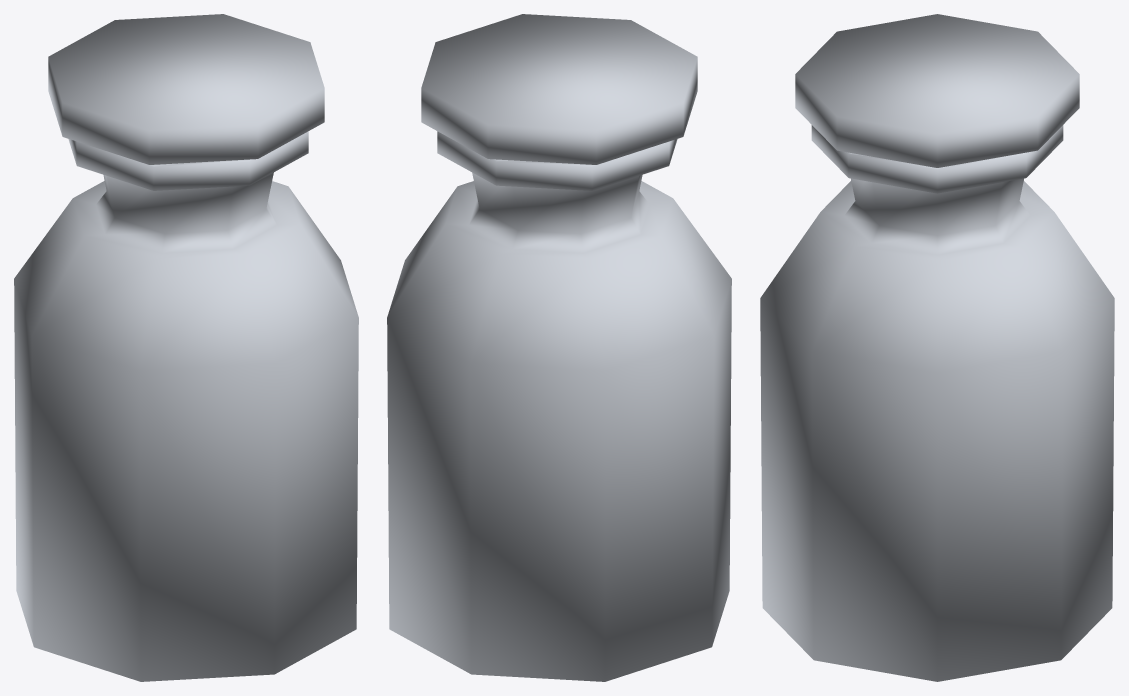
The model's file is bottle_glassware_reagent_bottle_large.glb.
The picture shows the model from 3 angles, left to right: view 1: azimuth 30°, elevation 25°; view 2: azimuth 150°, elevation 25°; view 3: azimuth 270°, elevation 25°; orthographic projection.
Parts seen in each view (by area): view 1: bottle_glassware_reagent_bottle_large, bottle_glassware_reagant_bottle_cap.003; view 2: bottle_glassware_reagent_bottle_large, bottle_glassware_reagant_bottle_cap.003; view 3: bottle_glassware_reagent_bottle_large, bottle_glassware_reagant_bottle_cap.003.
Boxes of the visible parts, x1=… form: bottle_glassware_reagent_bottle_large: x1=14, y1=131, x2=358, y2=681; bottle_glassware_reagant_bottle_cap.003: x1=48, y1=14, x2=324, y2=164; bottle_glassware_reagent_bottle_large: x1=387, y1=131, x2=731, y2=681; bottle_glassware_reagant_bottle_cap.003: x1=421, y1=14, x2=697, y2=164; bottle_glassware_reagent_bottle_large: x1=760, y1=125, x2=1114, y2=681; bottle_glassware_reagant_bottle_cap.003: x1=795, y1=14, x2=1079, y2=167.
Size of the model in its own units: 12.69 by 21.1 by 12.69.
1 material, 1 textured.
